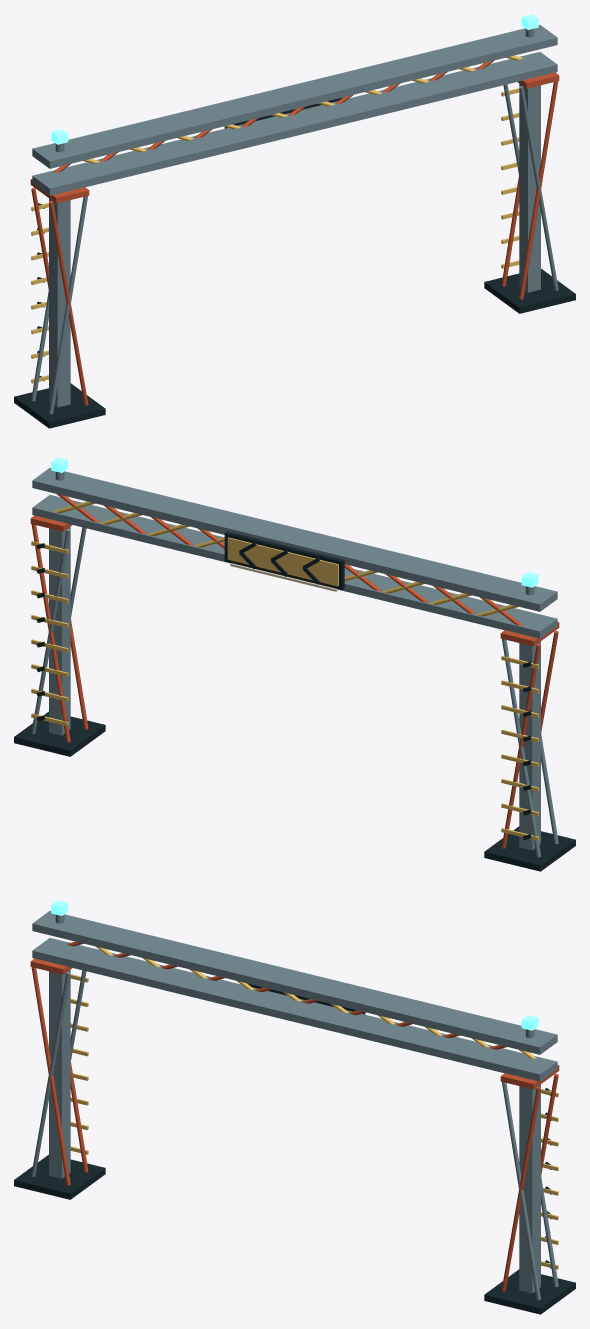
The model's file is exit-gantry.glb.
3 renders of one model, top to bottom at view 1: azimuth 30°, elevation 25°; view 2: azimuth 150°, elevation 25°; view 3: azimuth 330°, elevation 25°, orthographic.
Parts seen in each view (by area): view 1: exit-gantry; view 2: exit-gantry; view 3: exit-gantry.
Boxes of the visible parts, x1,y1,x2,y2 form: exit-gantry: [14, 14, 575, 428]; exit-gantry: [14, 457, 575, 871]; exit-gantry: [14, 900, 575, 1314].
Size of the model in its own units: 22.4 by 11.23 by 2.6.
